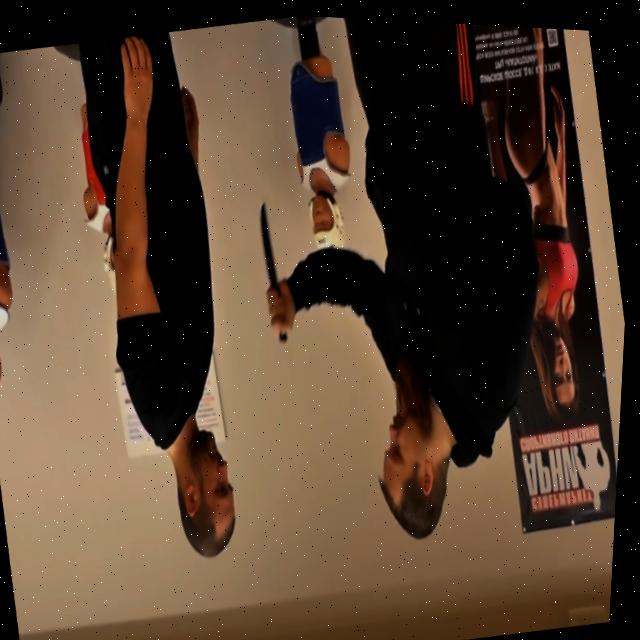knife: (255, 196, 286, 280)
